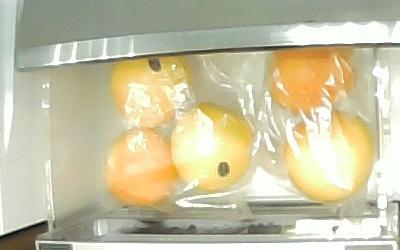grapefruit_vinyl: (283, 107, 373, 201), (169, 101, 253, 190), (103, 126, 180, 206), (265, 49, 355, 114), (110, 57, 193, 127)
